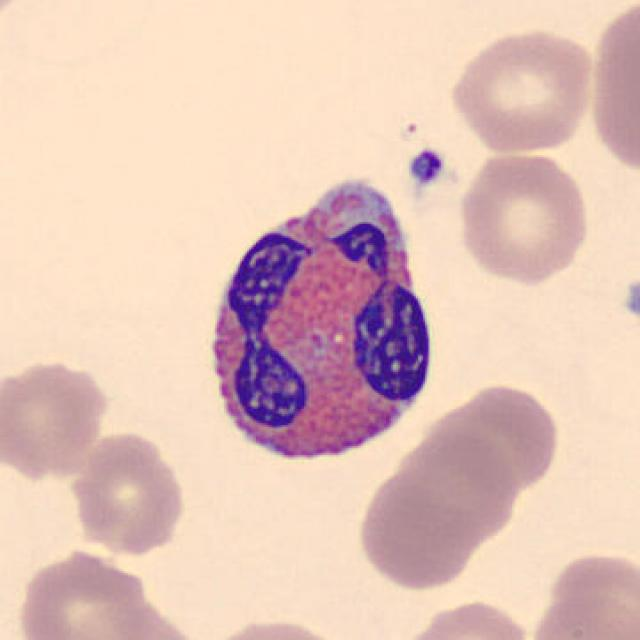Eosinophil: (190, 164, 444, 481)
Platelets: (404, 148, 449, 191), (620, 277, 640, 326)
RBC: (444, 23, 598, 157), (453, 146, 594, 288), (394, 417, 516, 556), (428, 377, 564, 497), (66, 427, 190, 557), (354, 466, 480, 592), (0, 353, 114, 481), (12, 546, 159, 640), (585, 0, 638, 180), (559, 554, 640, 640), (398, 596, 535, 640), (526, 589, 636, 640), (201, 615, 350, 640)
